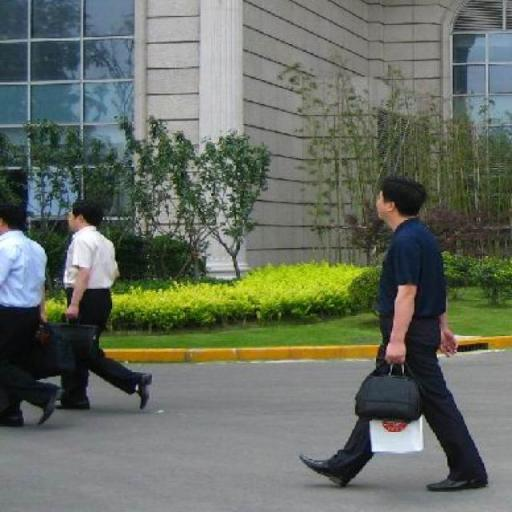person: (297, 175, 492, 496), (55, 199, 154, 413), (1, 203, 64, 429)
